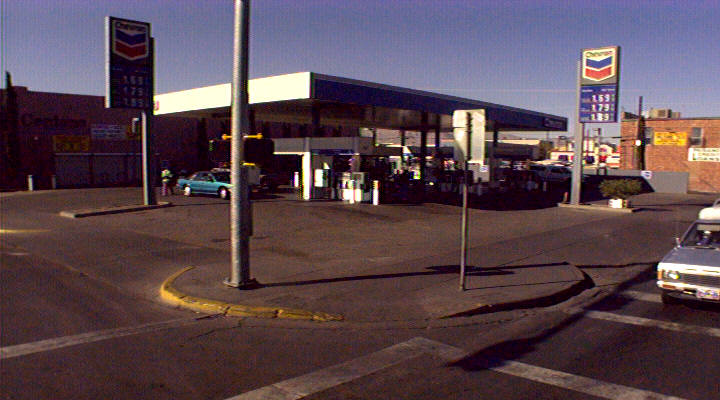Ramp: (290, 273, 487, 337)
